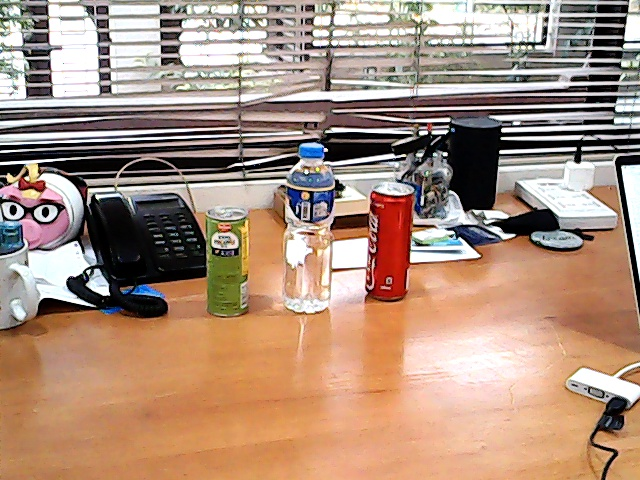Cola: (355, 169, 427, 316)
Pine Juice: (194, 197, 261, 326)
Summit Water: (270, 132, 344, 331)
